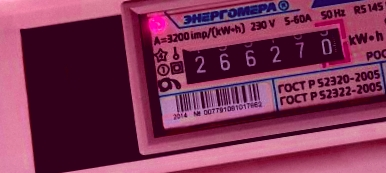0: (317, 35, 334, 57)
2: (191, 53, 207, 75), (267, 43, 283, 65)
6: (216, 50, 231, 73), (242, 47, 258, 68)
7: (293, 39, 306, 60)
screen: (168, 13, 357, 96)
